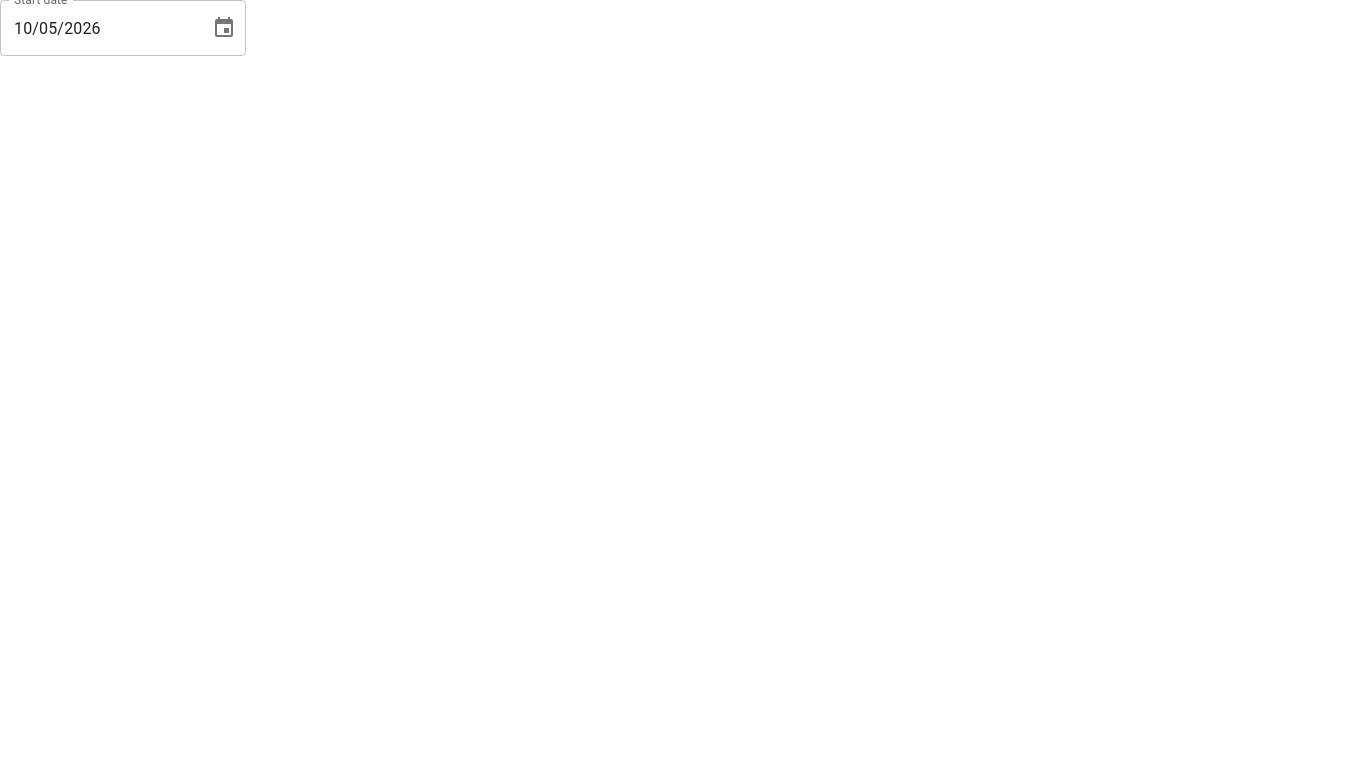
Test: <DatePickerField> › localisation › translates the calendar through localeText
Click the button named "choose date": (224, 28) [204,8,244,48]
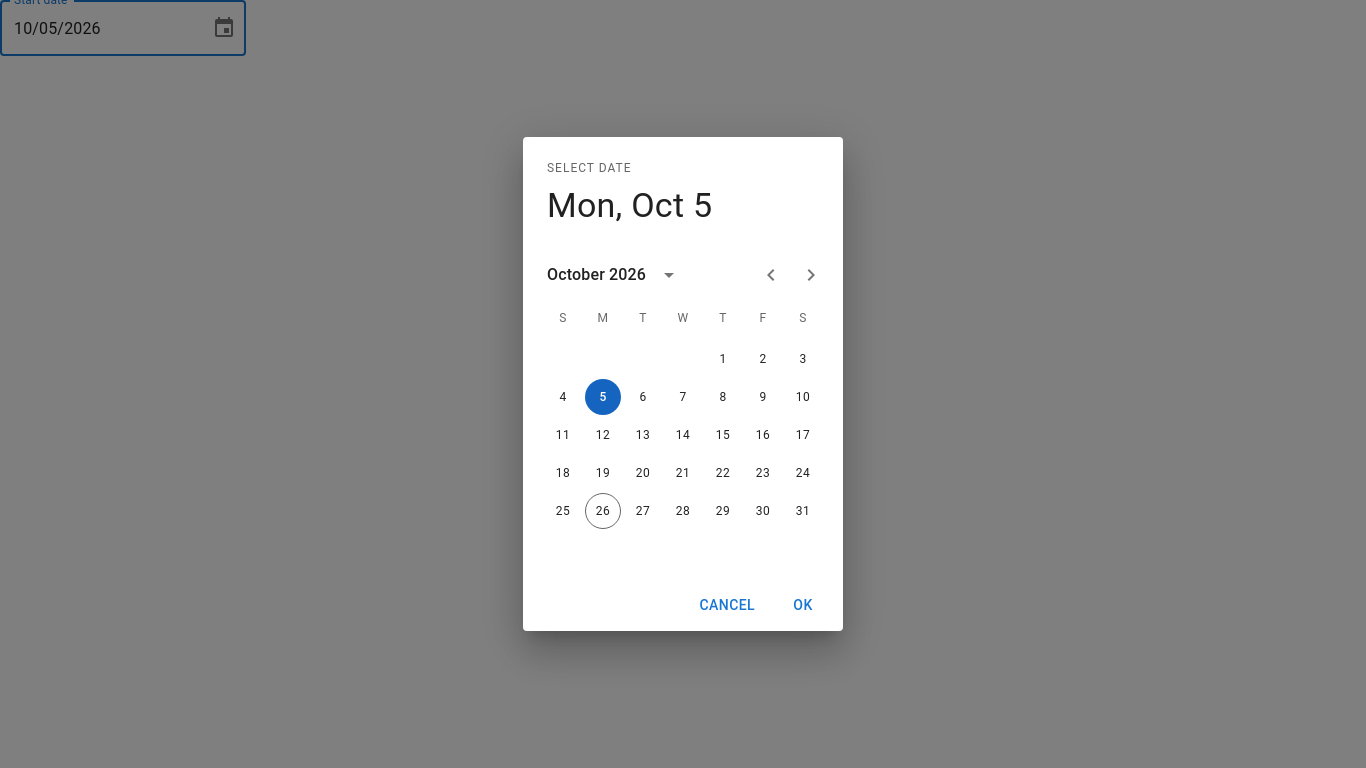
Expected: the button named "Earlier month" is shown, [751,255,791,295]
Expected: the button named "Later month" is shown, [791,255,831,295]
Expected: the button named "Show years" is shown, [652,258,686,292]
